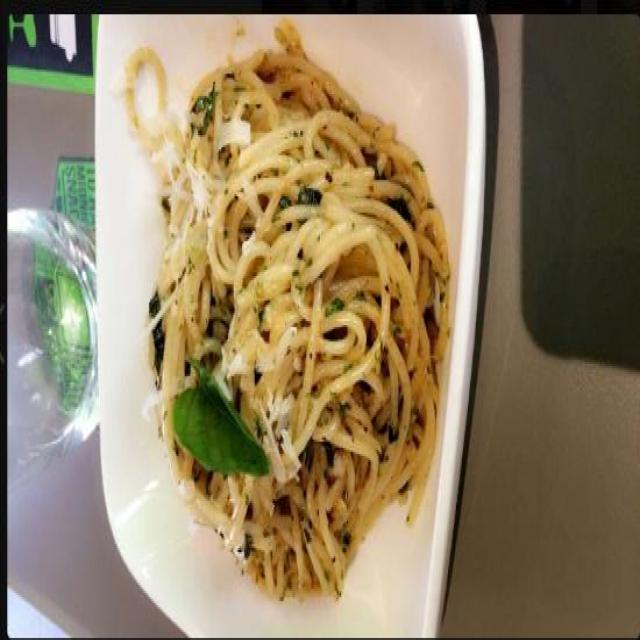Oil pasta: (119, 37, 485, 634)
